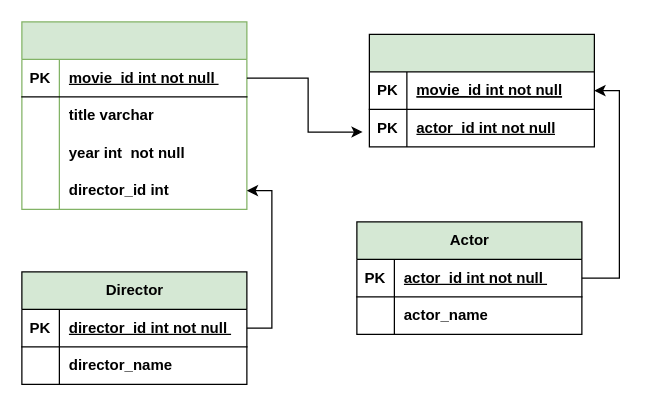
Some shapes in this 651 by 406 pixel diagram are drawn without their labels. Here are the shapes that lost their labels. From the top down, the box of each, then its label:
(368, 33, 594, 147): Movie_Actor
(21, 21, 247, 209): Movies
